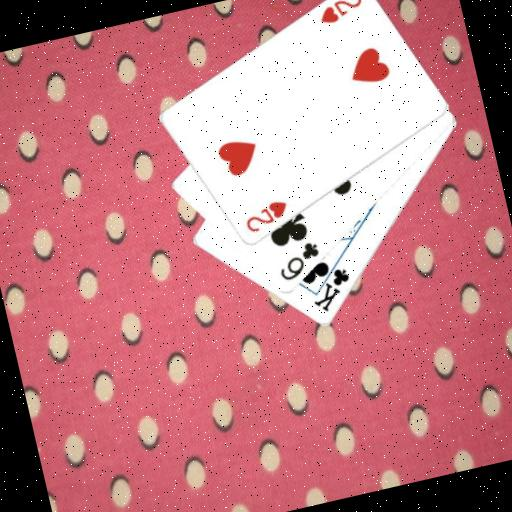2H: (239, 196, 293, 237), (311, 0, 367, 28)
6C: (271, 238, 326, 285)
KC: (302, 254, 358, 316)
